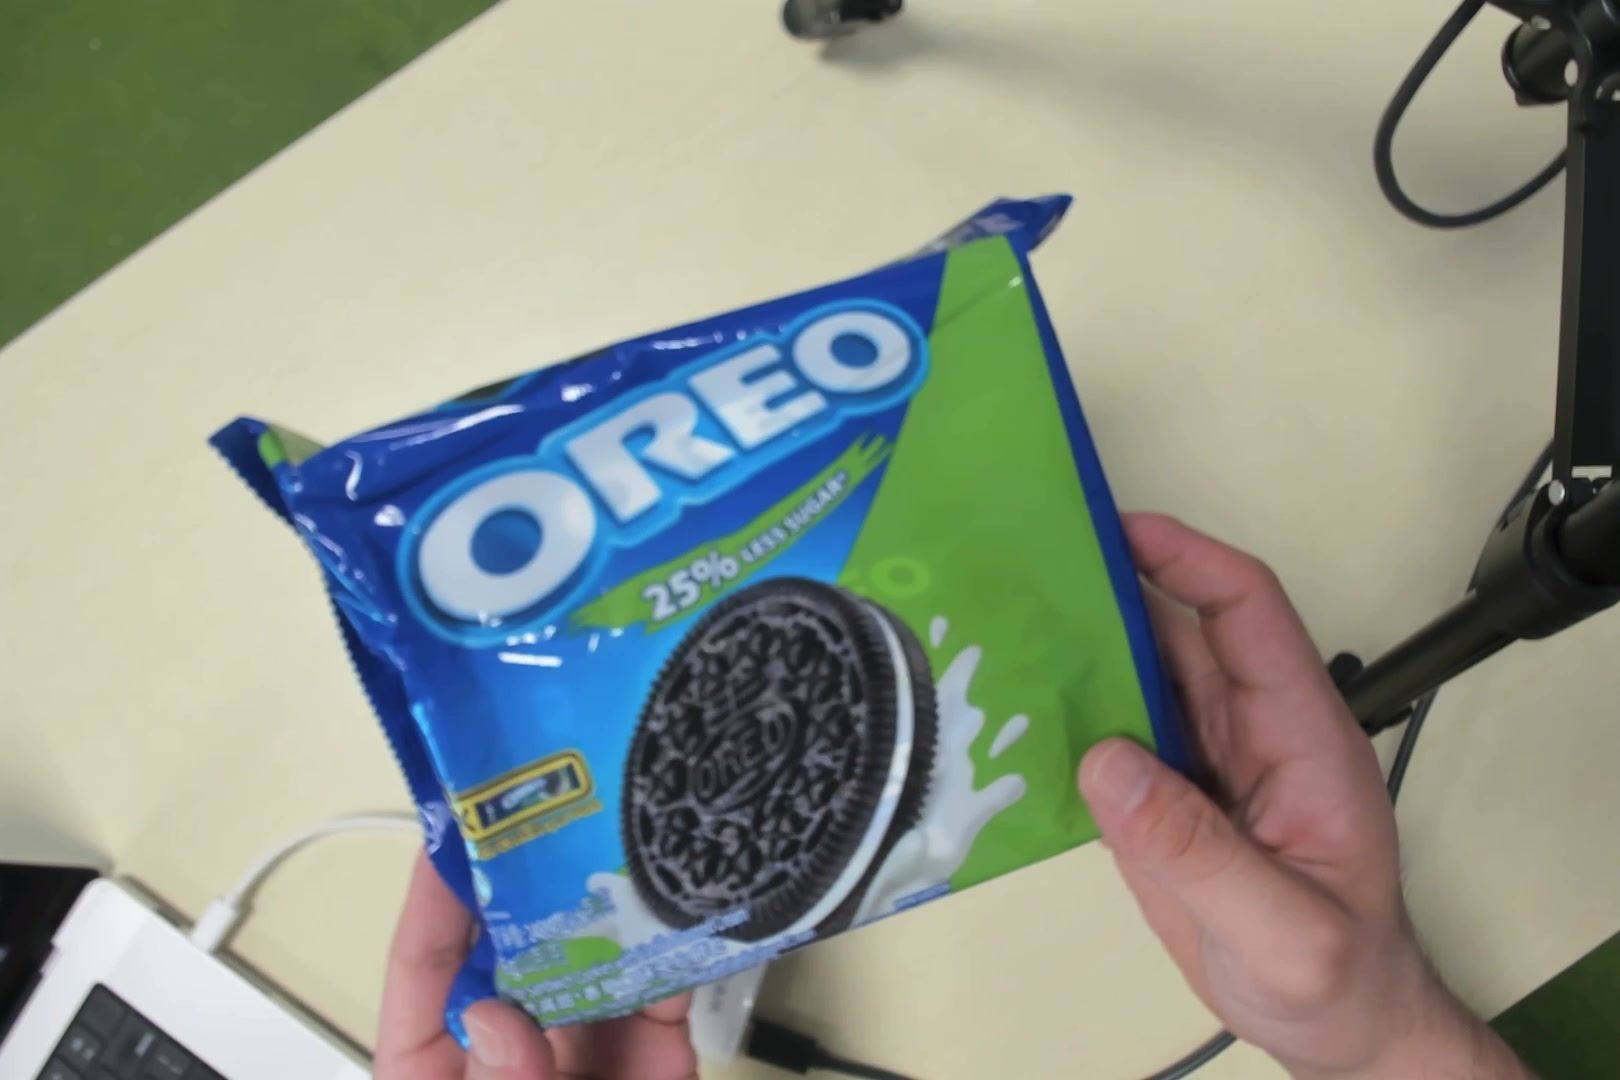SweetsChocolatesOthers_200-299g_Halal_NonHealthy: (393, 301, 1100, 937)
